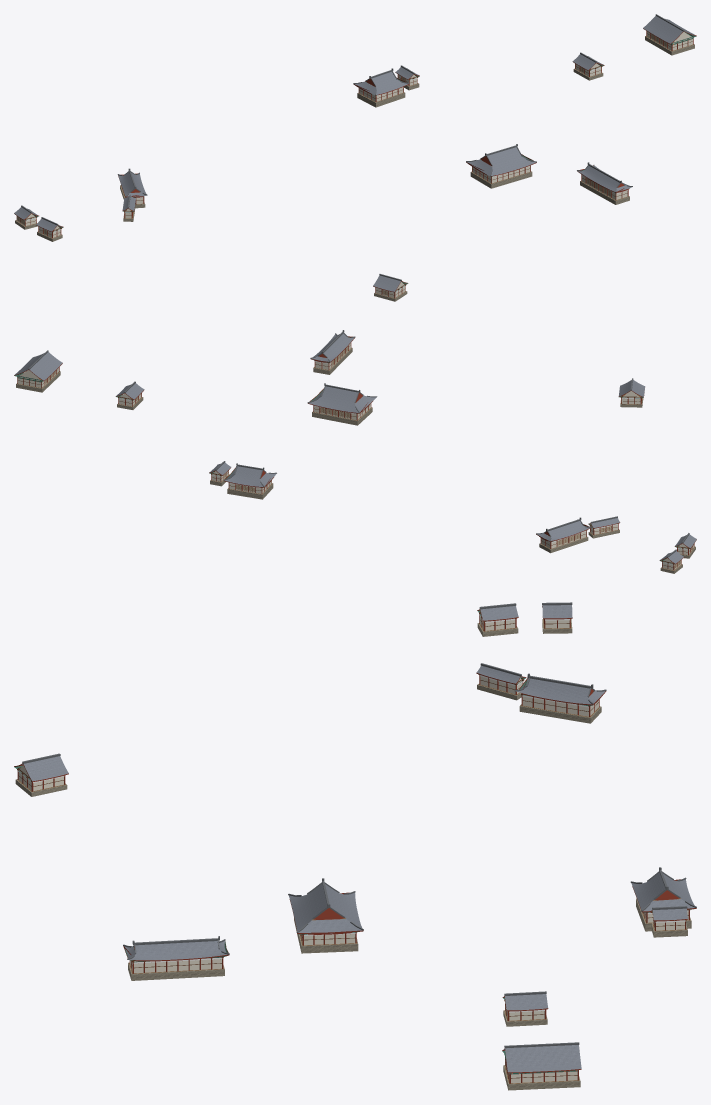
File: maninuichong.glb
3 renders of one model, top to bottom at view 1: azimuth 30°, elevation 25°; view 2: azimuth 150°, elevation 25°; view 3: azimuth 270°, elevation 25°, orthographic. The views are drawn at different scales.
Visible parts, largest first — view 1: maninuichong; view 2: maninuichong; view 3: maninuichong.
Boxes of the visible parts, x1,y1,x2,y2 form: maninuichong: [14, 14, 696, 301]; maninuichong: [14, 330, 696, 573]; maninuichong: [14, 602, 696, 1090].
Size of the model in its own units: 319 by 23.49 by 179.
Materials: 5 (4 with a texture image).
